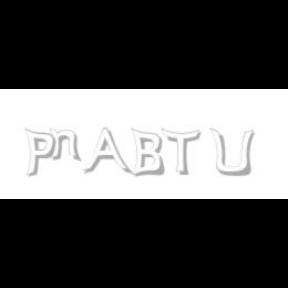A: (82, 128, 130, 176)
B: (130, 128, 164, 178)
P: (24, 128, 56, 178)
T: (161, 128, 201, 176)
U: (210, 128, 254, 178)
n: (48, 128, 82, 162)
